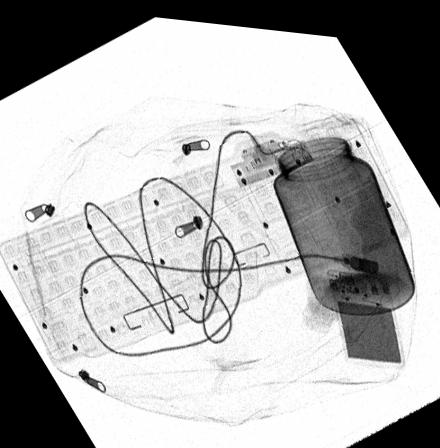Powerbank: (326, 259, 405, 359)
